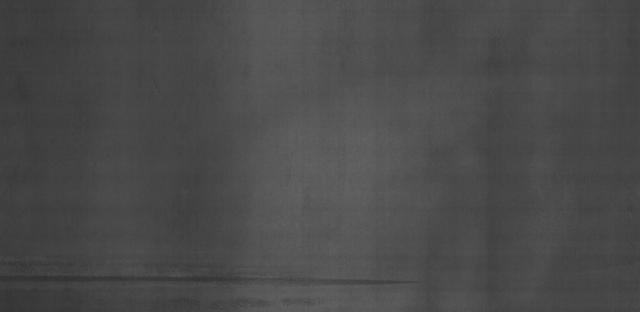crease: (4, 253, 419, 295)
